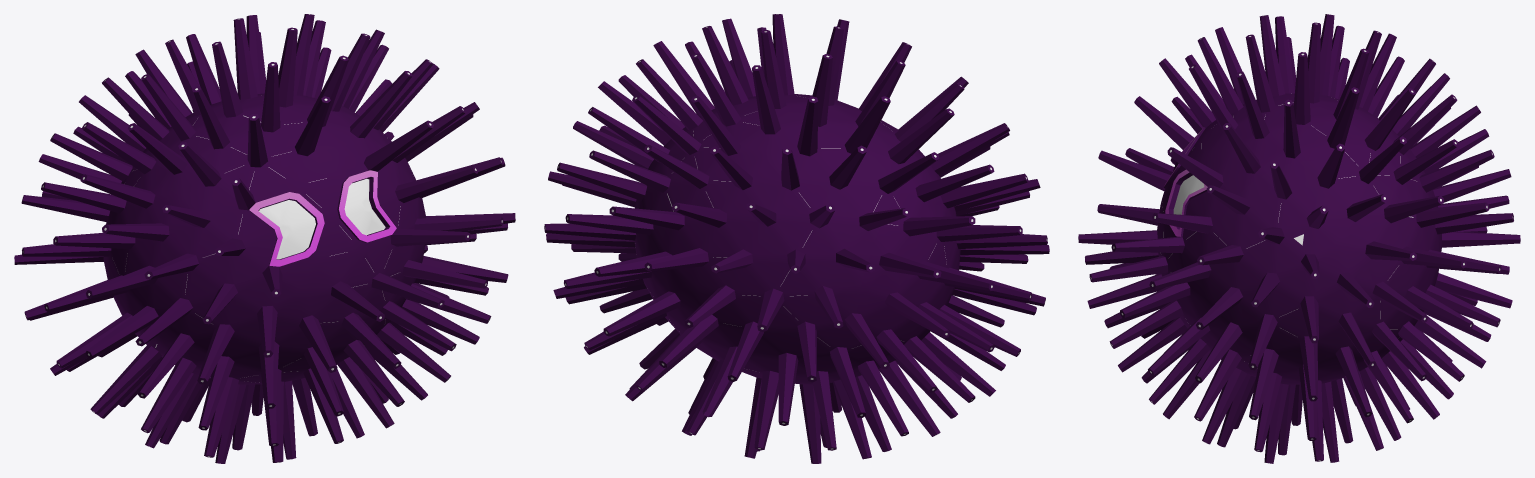
The model's file is BombEnemy.fbx.
The picture shows the model from 3 angles, left to right: view 1: azimuth 30°, elevation 25°; view 2: azimuth 150°, elevation 25°; view 3: azimuth 270°, elevation 25°; orthographic projection.
Visible parts, largest first — view 1: Icosphere; view 2: Icosphere; view 3: Icosphere.
Part boxes in pixels (bbox=[...]): Icosphere: bbox=[14, 14, 515, 463]; Icosphere: bbox=[544, 14, 1049, 463]; Icosphere: bbox=[1078, 14, 1520, 463].
Bounding box in the file's own units: 347 × 296 × 297.
